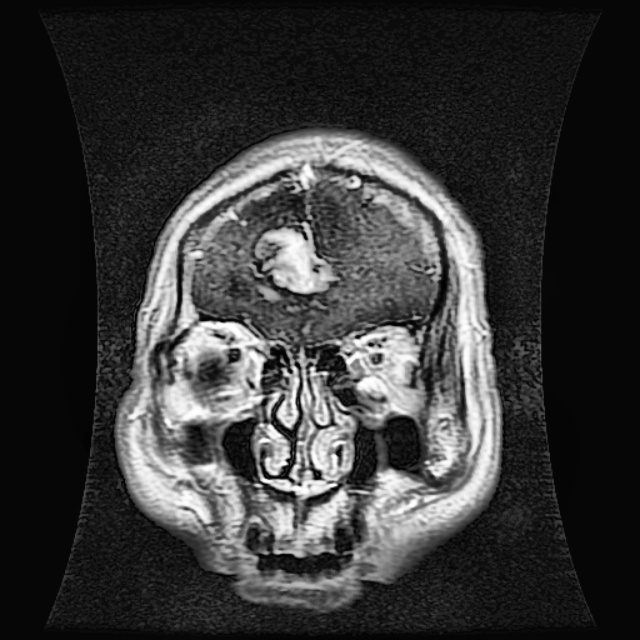Meningioma: (250, 220, 339, 292)
